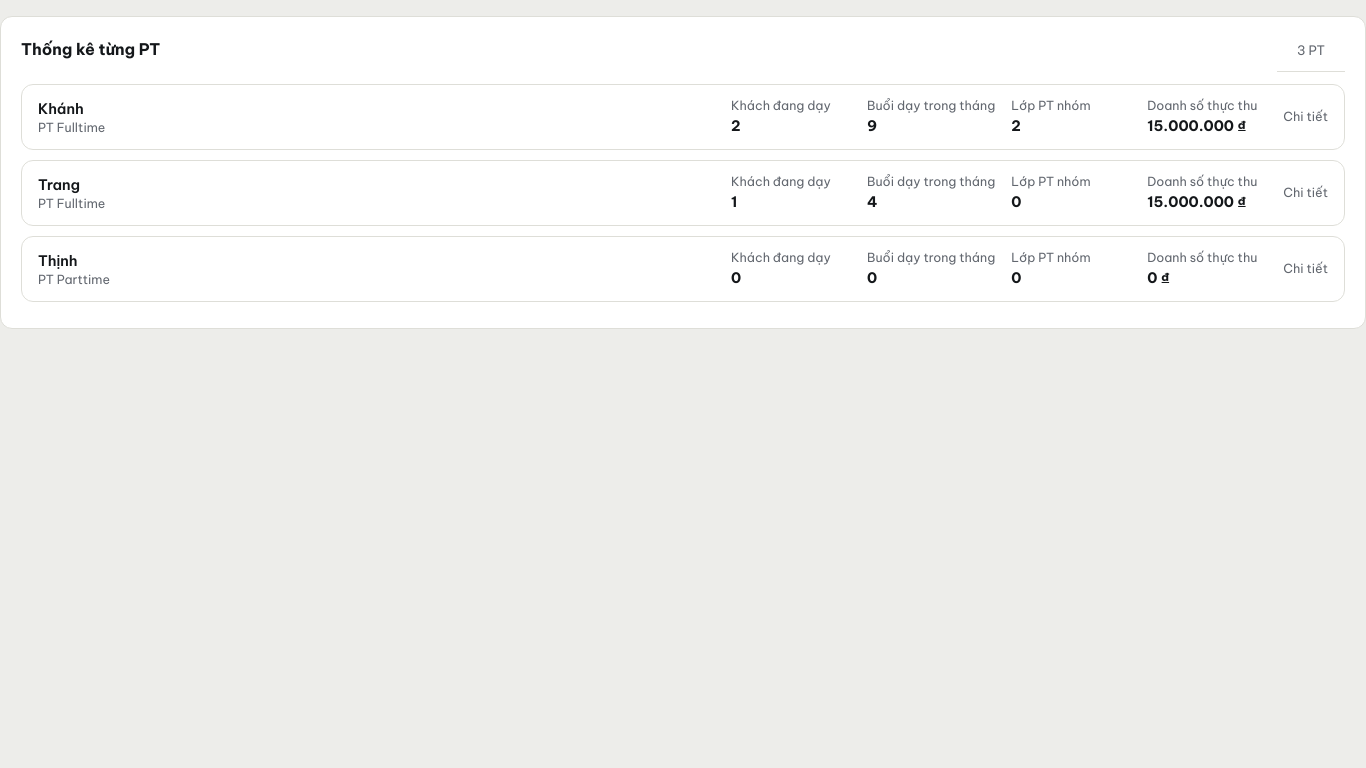
Test: pt stats › shows headline numbers collapsed and the tables when expanded
This screenshot has width=1366, height=768.
Expected: the text "Khánh" is shown, left=38, top=98, right=84, bottom=118
Expected: the text "Khách hàng đang dạy" is not shown
Click the button that starts with "Khánh".
click(61, 108)  # box left=22, top=84, right=1344, bottom=148
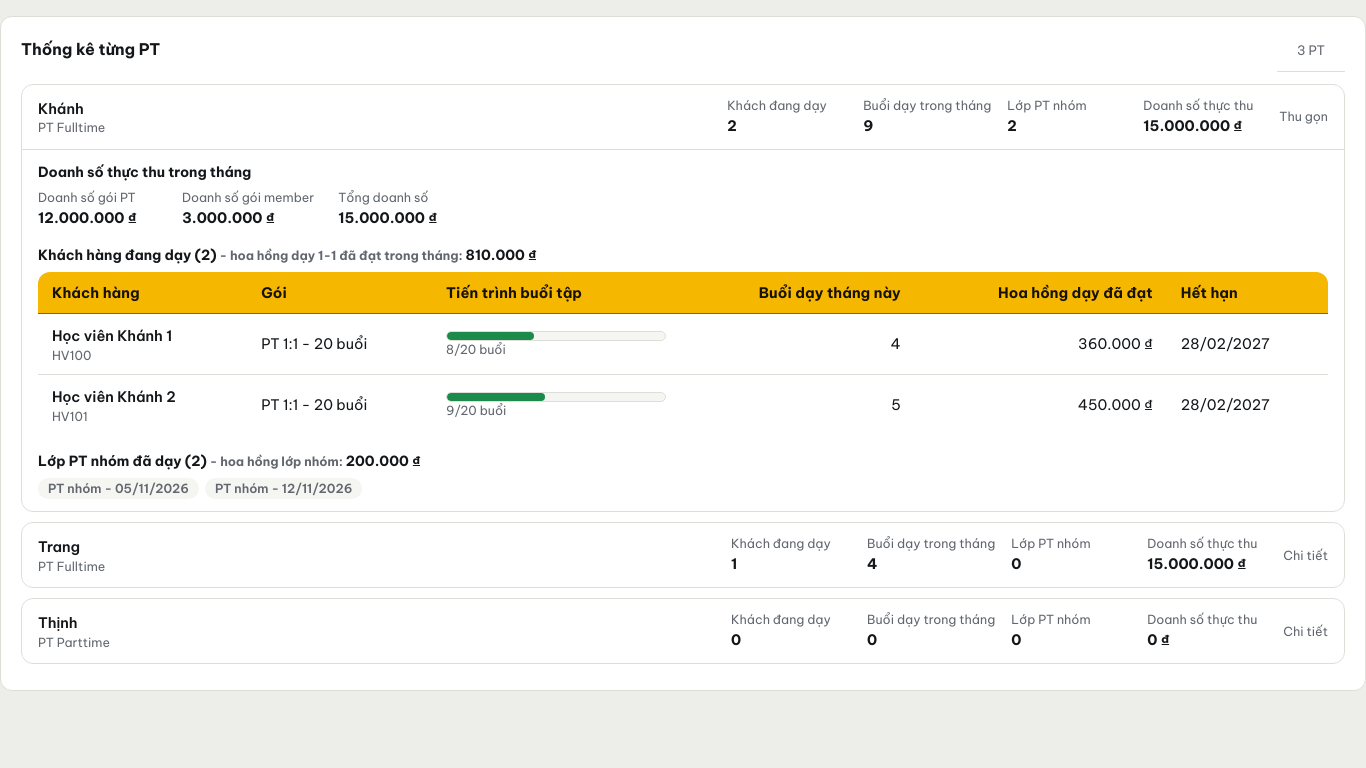
Expected: the heading "Khách hàng đang dạy" is shown, left=38, top=246, right=201, bottom=264
Expected: the text "Học viên Khánh 1" is shown, left=52, top=326, right=172, bottom=345
